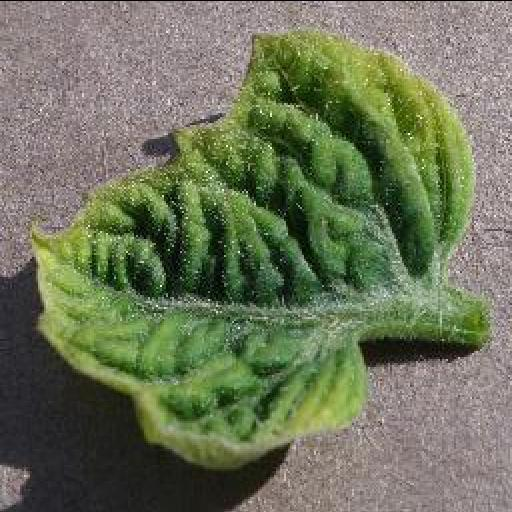disease_tomato: (30, 32, 478, 466)
